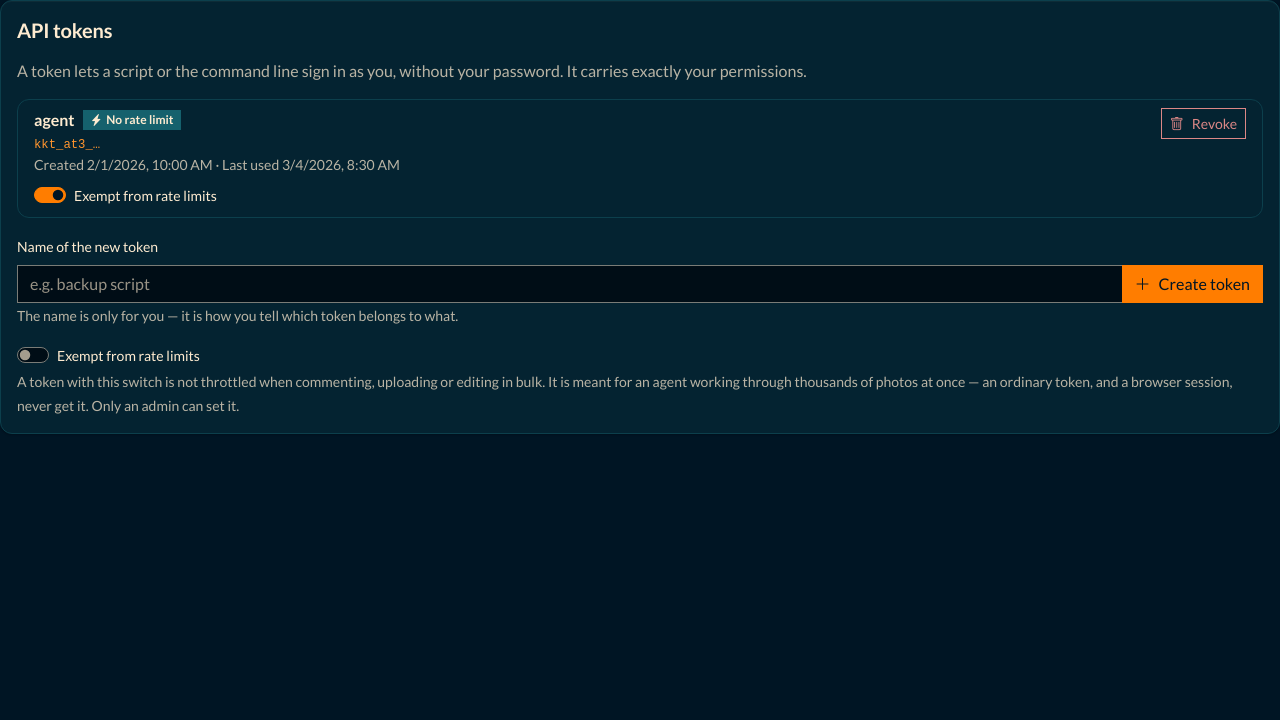
Test case: ApiTokensCard rate-limit exemption › puts the switch back and reports the failure when the server refuses
Expected: the text "agent" is shown, [34,108,74,132]
Click the checkbox labelled "Exempt from rate limits" below "Created 2/1/2026, 10:00 AM" at coordinates (50, 195), box [34,187,66,203]
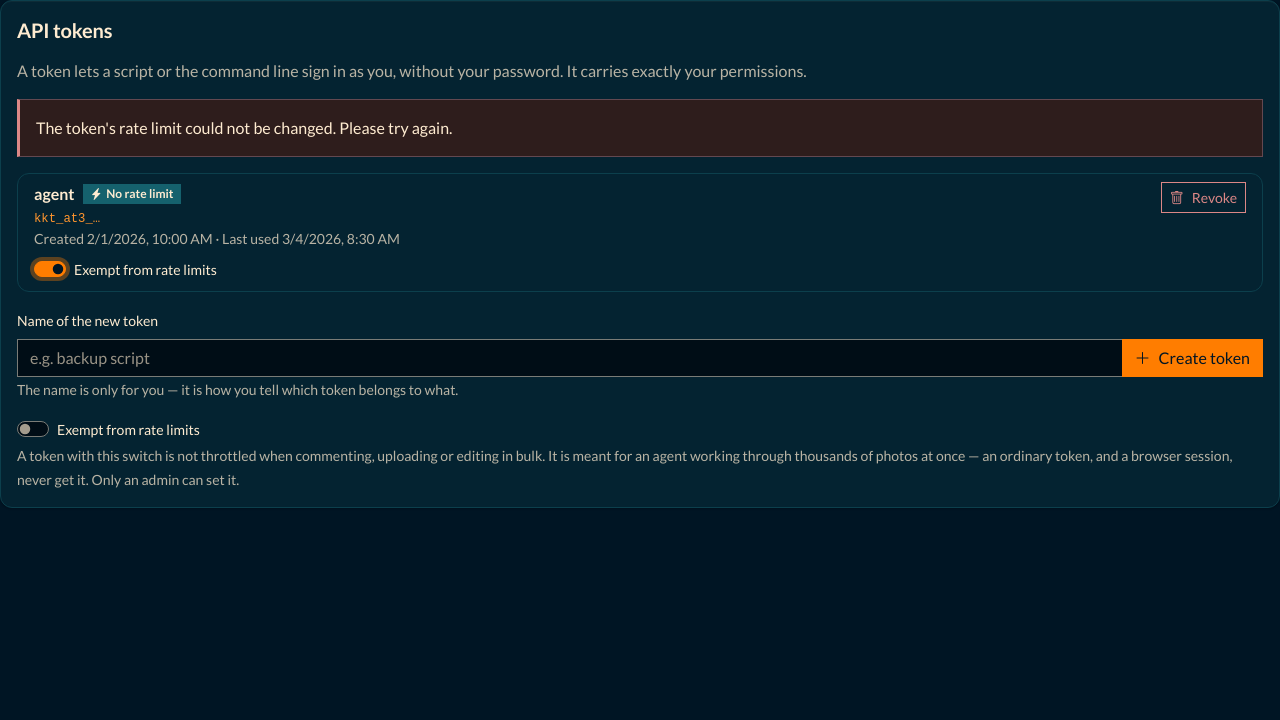
Expected: the checkbox labelled "Exempt from rate limits" below "Created 2/1/2026, 10:00 AM" is checked, [34,261,66,277]
Expected: the text "The token's rate limit could not be changed. Please try again." is shown, [17,99,1263,157]
